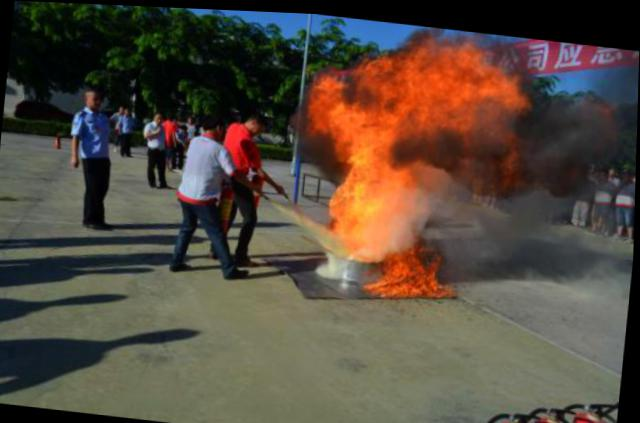fire: (396, 39, 523, 132), (333, 155, 421, 256), (356, 57, 400, 162), (379, 244, 444, 295), (309, 67, 342, 134), (327, 98, 361, 156)
